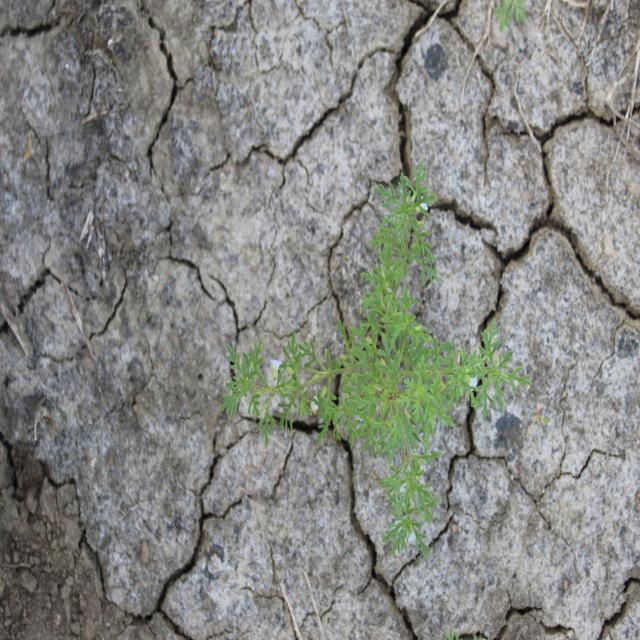Ragweed: (216, 155, 534, 564), (492, 2, 530, 31)
